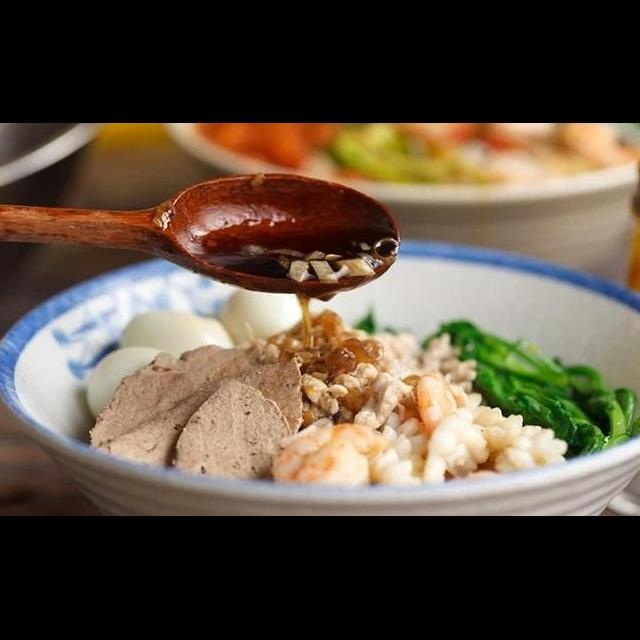gan: (83, 348, 310, 482), (83, 329, 284, 458), (164, 374, 299, 498)
muc: (462, 396, 576, 481)
tom: (264, 414, 393, 499)
trung: (116, 304, 241, 368), (83, 340, 169, 424), (218, 278, 309, 354)
